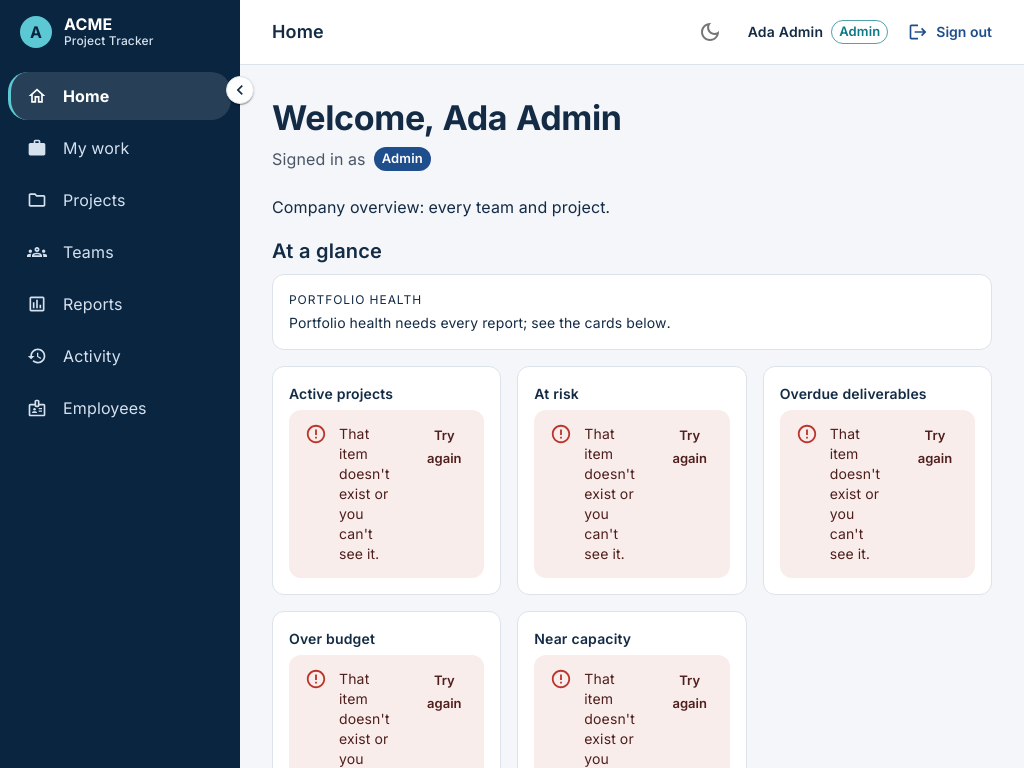
Test: sign out › revokes the token on the server, clears storage and returns to login
The width and height of the screenshot is (1024, 768).
Check: the heading "Welcome, Ada Admin" is shown, box [272,97,622,139]
Step 1. Click the button "Sign out" → (952, 32), box [904,10,1000,54]
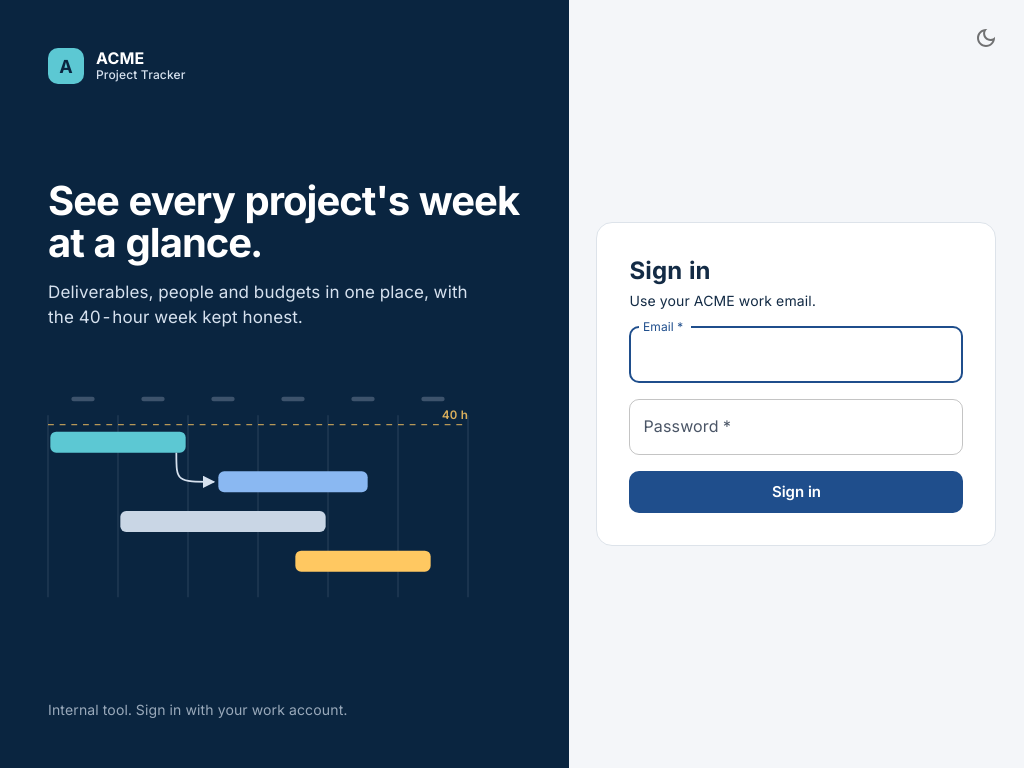
Check: the heading "Sign in" is shown, box [629,256,711,285]
